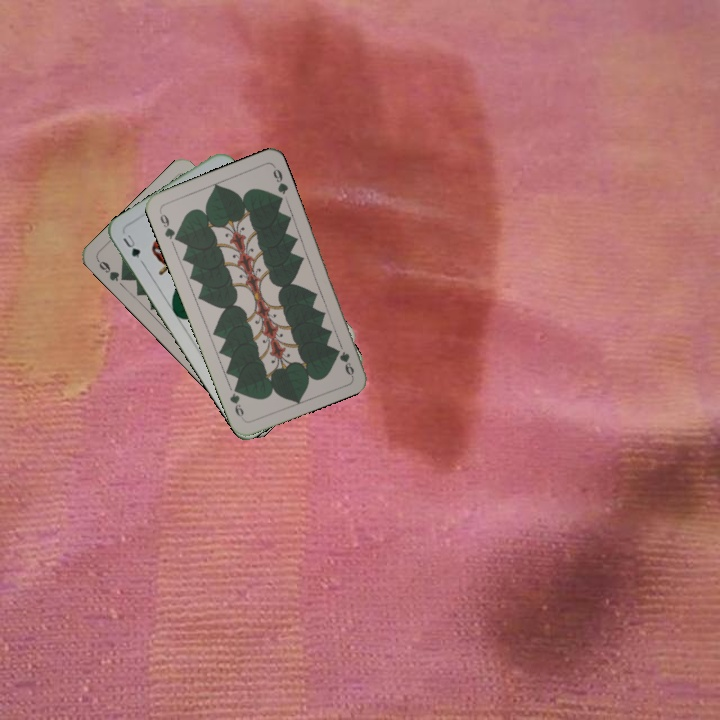G9: (93, 256, 130, 284), (155, 207, 182, 244), (336, 347, 357, 378)
GU: (119, 229, 146, 266)
